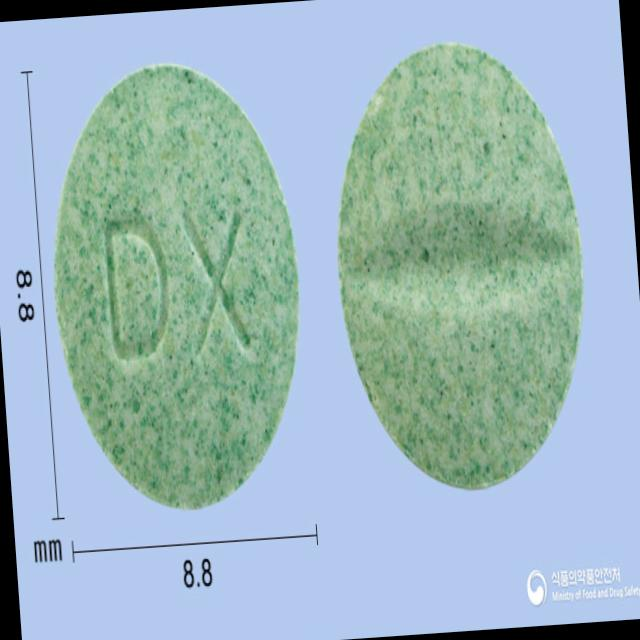Doxymycin N: (39, 53, 314, 518)
